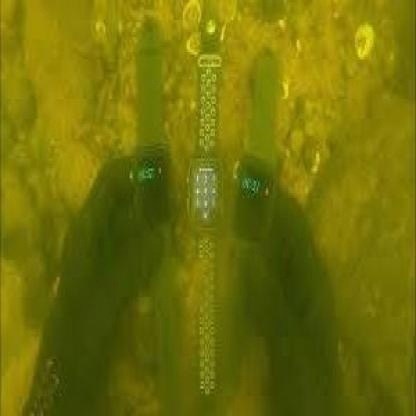electronics: (129, 17, 186, 416), (232, 47, 282, 406), (184, 7, 224, 398)
